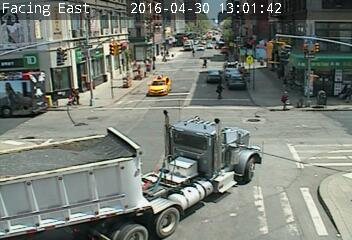neg: (116, 73, 129, 90), (272, 41, 285, 58), (330, 64, 343, 81), (108, 40, 121, 56), (52, 46, 64, 63), (144, 55, 156, 71), (307, 39, 319, 54), (128, 62, 139, 78), (65, 25, 76, 41), (313, 90, 324, 105), (160, 25, 170, 39), (207, 36, 215, 47)
pos: (278, 90, 293, 112), (214, 81, 229, 102), (67, 87, 80, 104), (280, 76, 291, 90), (201, 57, 211, 70), (190, 46, 198, 58)
